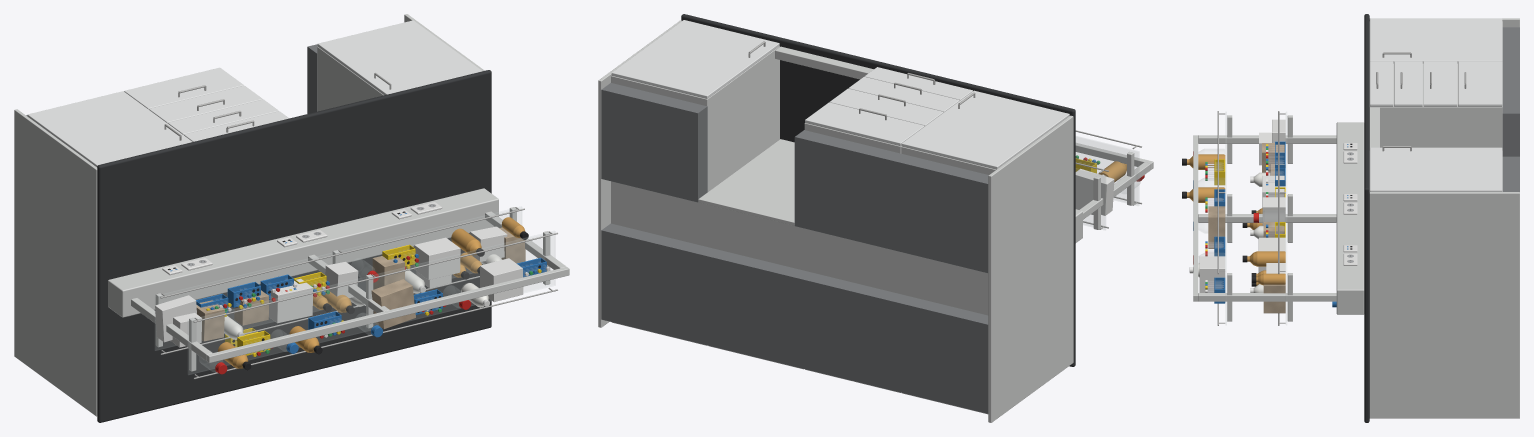
Rendered from AICOR_Lab__CulturePrep__PR_Island.glb.
The picture shows the model from 3 angles, left to right: view 1: azimuth 30°, elevation 25°; view 2: azimuth 150°, elevation 25°; view 3: azimuth 270°, elevation 25°; orthographic projection. The views are drawn at different scales.
Visible parts, largest first — view 1: /World/AICOR_Lab/CulturePrep/PR_Island/Visual/PhenolicDark, /World/AICOR_Lab/CulturePrep/PR_Island/Visual/PowderGrey, /World/AICOR_Lab/CulturePrep/PR_Island/Visual/PowderWhite, /World/AICOR_Lab/CulturePrep/PR_Island/Visual/GlassClear, /World/AICOR_Lab/CulturePrep/PR_Island/Visual/PlasticWhite, /World/AICOR_Lab/CulturePrep/PR_Island/Visual/Cardboard, /World/AICOR_Lab/CulturePrep/PR_Island/Visual/StainlessSatin, /World/AICOR_Lab/CulturePrep/PR_Island/Visual/PlasticBlue, /World/AICOR_Lab/CulturePrep/PR_Island/Visual/GlassAmber, /World/AICOR_Lab/CulturePrep/PR_Island/Visual/PlasticYellow, /World/AICOR_Lab/CulturePrep/PR_Island/Visual/HdpeNatural, /World/AICOR_Lab/CulturePrep/PR_Island/Visual/VinylSkirting (+2 smaller); view 2: /World/AICOR_Lab/CulturePrep/PR_Island/Visual/VinylSkirting, /World/AICOR_Lab/CulturePrep/PR_Island/Visual/PowderGrey, /World/AICOR_Lab/CulturePrep/PR_Island/Visual/PowderWhite, /World/AICOR_Lab/CulturePrep/PR_Island/Visual/PhenolicDark, /World/AICOR_Lab/CulturePrep/PR_Island/Visual/GlassClear, /World/AICOR_Lab/CulturePrep/PR_Island/Visual/PlasticWhite, /World/AICOR_Lab/CulturePrep/PR_Island/Visual/StainlessSatin; view 3: /World/AICOR_Lab/CulturePrep/PR_Island/Visual/PowderGrey, /World/AICOR_Lab/CulturePrep/PR_Island/Visual/PowderWhite, /World/AICOR_Lab/CulturePrep/PR_Island/Visual/PlasticWhite, /World/AICOR_Lab/CulturePrep/PR_Island/Visual/VinylSkirting, /World/AICOR_Lab/CulturePrep/PR_Island/Visual/PhenolicDark, /World/AICOR_Lab/CulturePrep/PR_Island/Visual/Cardboard, /World/AICOR_Lab/CulturePrep/PR_Island/Visual/GlassAmber, /World/AICOR_Lab/CulturePrep/PR_Island/Visual/GlassClear, /World/AICOR_Lab/CulturePrep/PR_Island/Visual/StainlessSatin, /World/AICOR_Lab/CulturePrep/PR_Island/Visual/PlasticBlue, /World/AICOR_Lab/CulturePrep/PR_Island/Visual/PolystyreneCle, /World/AICOR_Lab/CulturePrep/PR_Island/Visual/PlasticYellow (+1 smaller).
Part boxes in pixels (bbox=[...]): /World/AICOR_Lab/CulturePrep/PR_Island/Visual/PhenolicDark: bbox=[97, 70, 491, 422]; /World/AICOR_Lab/CulturePrep/PR_Island/Visual/PowderGrey: bbox=[14, 14, 569, 416]; /World/AICOR_Lab/CulturePrep/PR_Island/Visual/PowderWhite: bbox=[27, 20, 482, 167]; /World/AICOR_Lab/CulturePrep/PR_Island/Visual/GlassClear: bbox=[155, 206, 555, 374]; /World/AICOR_Lab/CulturePrep/PR_Island/Visual/PlasticWhite: bbox=[155, 202, 550, 352]; /World/AICOR_Lab/CulturePrep/PR_Island/Visual/Cardboard: bbox=[196, 227, 525, 341]; /World/AICOR_Lab/CulturePrep/PR_Island/Visual/StainlessSatin: bbox=[160, 72, 557, 379]; /World/AICOR_Lab/CulturePrep/PR_Island/Visual/PlasticBlue: bbox=[170, 213, 546, 353]; /World/AICOR_Lab/CulturePrep/PR_Island/Visual/GlassAmber: bbox=[217, 217, 525, 368]; /World/AICOR_Lab/CulturePrep/PR_Island/Visual/PlasticYellow: bbox=[206, 244, 541, 356]; /World/AICOR_Lab/CulturePrep/PR_Island/Visual/HdpeNatural: bbox=[224, 254, 502, 339]; /World/AICOR_Lab/CulturePrep/PR_Island/Visual/VinylSkirting: bbox=[26, 44, 317, 116]; /World/AICOR_Lab/CulturePrep/PR_Island/Visual/VinylSkirting: bbox=[601, 83, 988, 413]; /World/AICOR_Lab/CulturePrep/PR_Island/Visual/PowderGrey: bbox=[598, 20, 1153, 422]; /World/AICOR_Lab/CulturePrep/PR_Island/Visual/PowderWhite: bbox=[611, 20, 1069, 414]; /World/AICOR_Lab/CulturePrep/PR_Island/Visual/PhenolicDark: bbox=[681, 14, 1075, 366]; /World/AICOR_Lab/CulturePrep/PR_Island/Visual/GlassClear: bbox=[1076, 136, 1140, 230]; /World/AICOR_Lab/CulturePrep/PR_Island/Visual/PlasticWhite: bbox=[1075, 168, 1114, 215]; /World/AICOR_Lab/CulturePrep/PR_Island/Visual/StainlessSatin: bbox=[748, 41, 1141, 229]; /World/AICOR_Lab/CulturePrep/PR_Island/Visual/PowderGrey: bbox=[1193, 18, 1519, 418]; /World/AICOR_Lab/CulturePrep/PR_Island/Visual/PowderWhite: bbox=[1370, 18, 1502, 191]; /World/AICOR_Lab/CulturePrep/PR_Island/Visual/PlasticWhite: bbox=[1189, 119, 1357, 292]; /World/AICOR_Lab/CulturePrep/PR_Island/Visual/VinylSkirting: bbox=[1502, 27, 1519, 191]; /World/AICOR_Lab/CulturePrep/PR_Island/Visual/PhenolicDark: bbox=[1364, 14, 1369, 422]; /World/AICOR_Lab/CulturePrep/PR_Island/Visual/Cardboard: bbox=[1208, 143, 1285, 313]; /World/AICOR_Lab/CulturePrep/PR_Island/Visual/GlassAmber: bbox=[1187, 154, 1285, 285]; /World/AICOR_Lab/CulturePrep/PR_Island/Visual/GlassClear: bbox=[1198, 112, 1286, 324]; /World/AICOR_Lab/CulturePrep/PR_Island/Visual/StainlessSatin: bbox=[1217, 52, 1466, 325]; /World/AICOR_Lab/CulturePrep/PR_Island/Visual/PlasticBlue: bbox=[1193, 141, 1348, 307]; /World/AICOR_Lab/CulturePrep/PR_Island/Visual/PolystyreneCle: bbox=[1208, 145, 1284, 292]; /World/AICOR_Lab/CulturePrep/PR_Island/Visual/PlasticYellow: bbox=[1205, 144, 1285, 288].
Size of the model in its own units: 2.4 by 1.52 by 1.96.
Materials: 18 (2 with a texture image).
